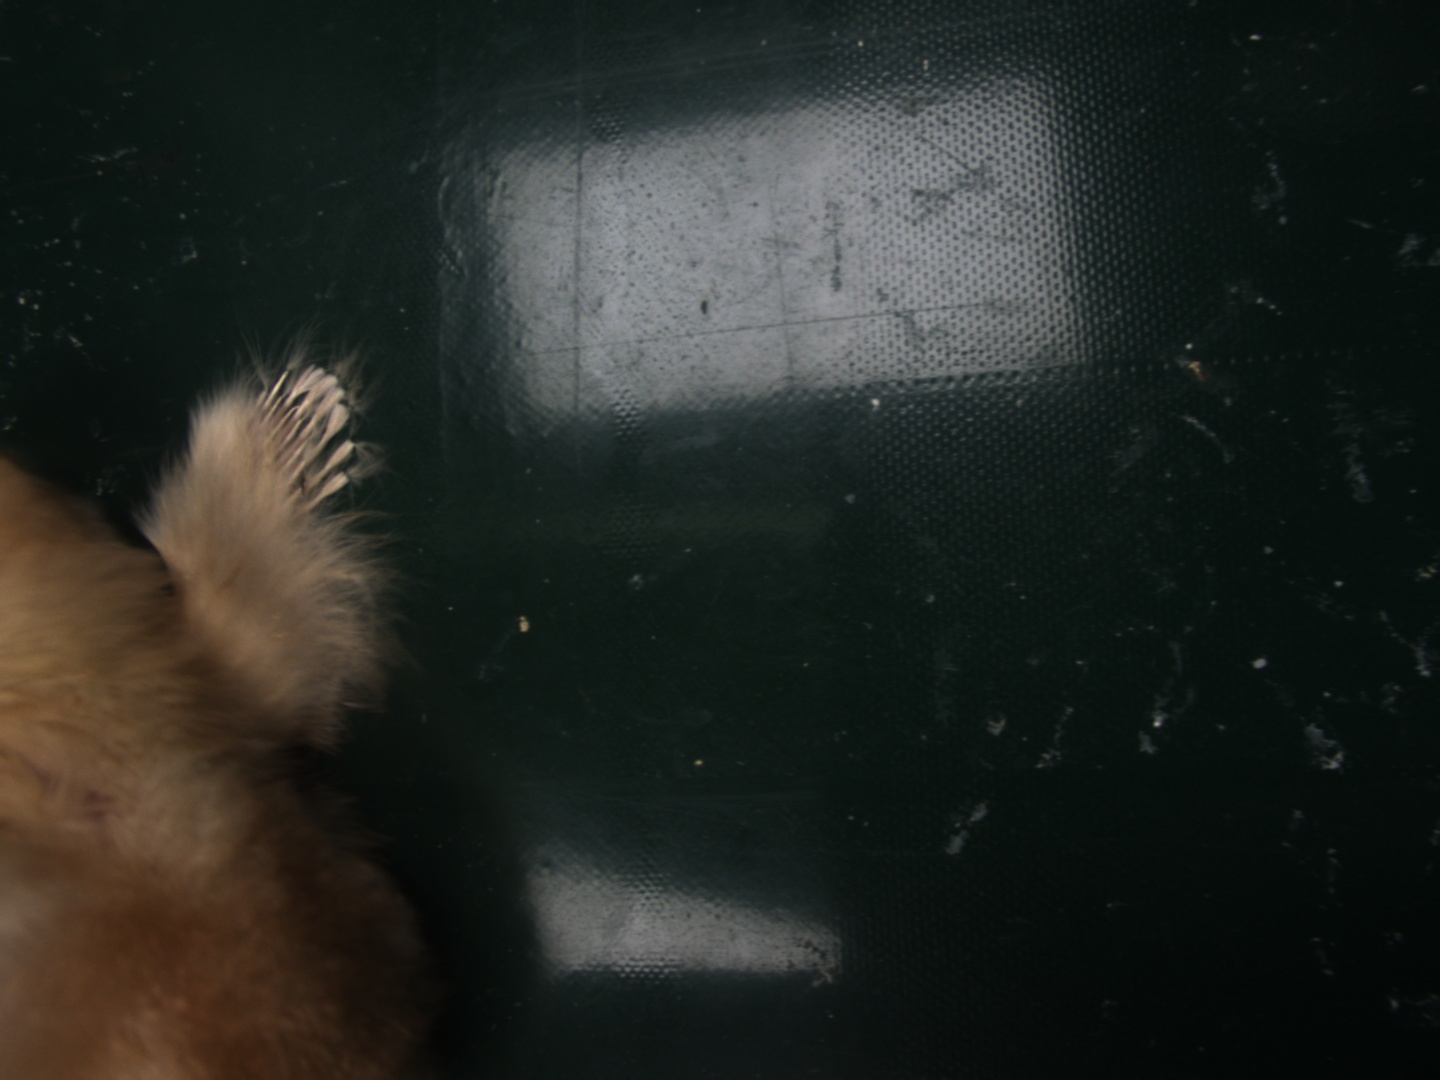female: (242, 361, 359, 520)
